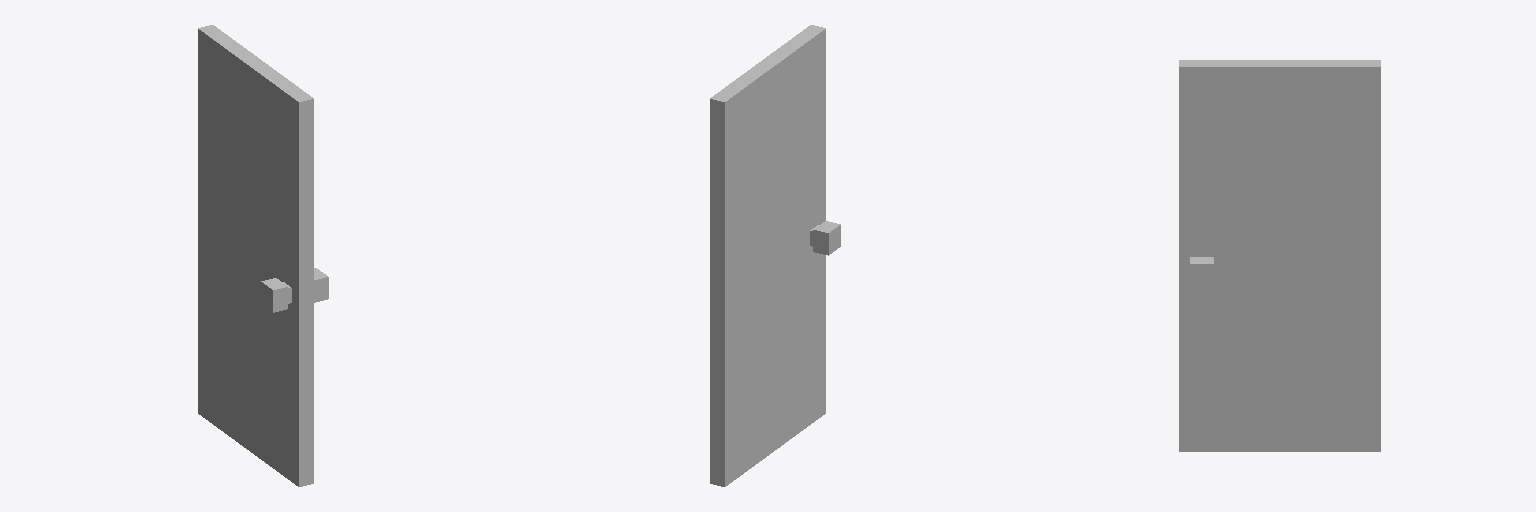
The model's file is ScienceRoomRightDoor.obj.
The picture shows the model from 3 angles: view 1: azimuth 30°, elevation 25°; view 2: azimuth 150°, elevation 25°; view 3: azimuth 270°, elevation 25°; orthographic projection.
Parts seen in each view (by area): view 1: Box016; view 2: Box016; view 3: Box016.
Part boxes in pixels (x1,y1,x2,y2): Box016: (198,25,328,486); Box016: (710,25,840,486); Box016: (1179,60,1380,451).
Size of the model in its own units: 51.4 by 341 by 163.